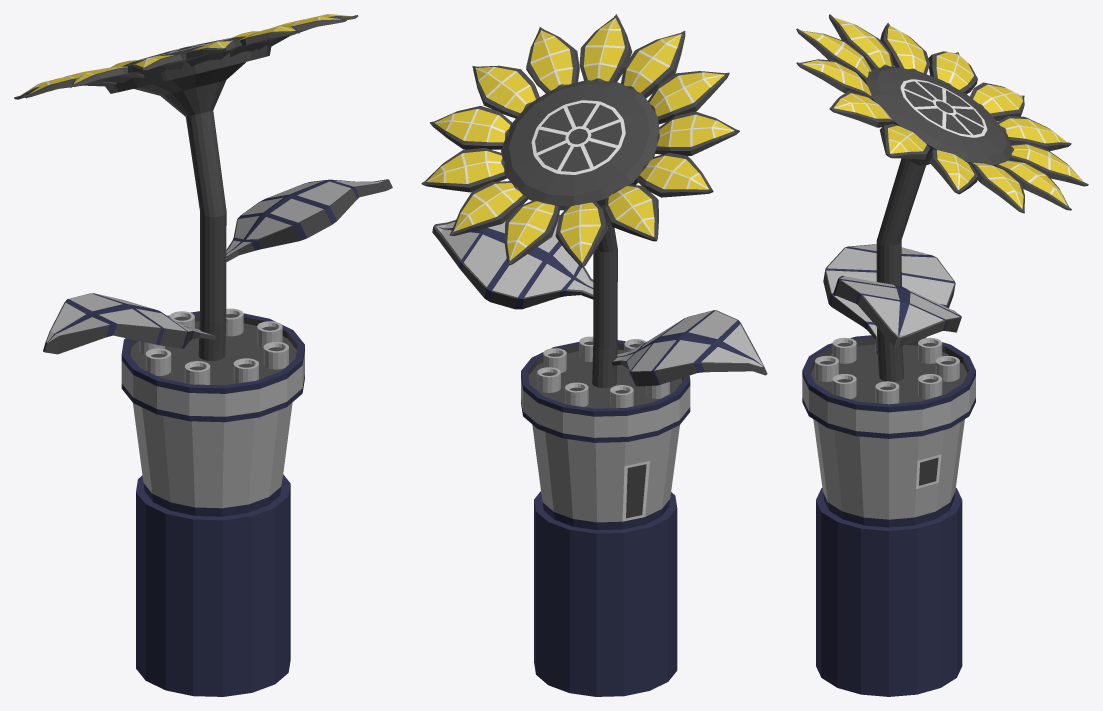
Rendered from SM_Sunflower.fbx.
3 renders of one model, left to right at view 1: azimuth 30°, elevation 25°; view 2: azimuth 150°, elevation 25°; view 3: azimuth 270°, elevation 25°, orthographic. The views are drawn at different scales.
Visible parts, largest first — view 1: Cube; view 2: Cube; view 3: Cube.
Part boxes in pixels (<box>): Cube: <box>14,14,392,696</box>; Cube: <box>421,14,767,696</box>; Cube: <box>796,14,1088,696</box>.
Bounding box in the file's own units: 1431 × 2551 × 1090.
